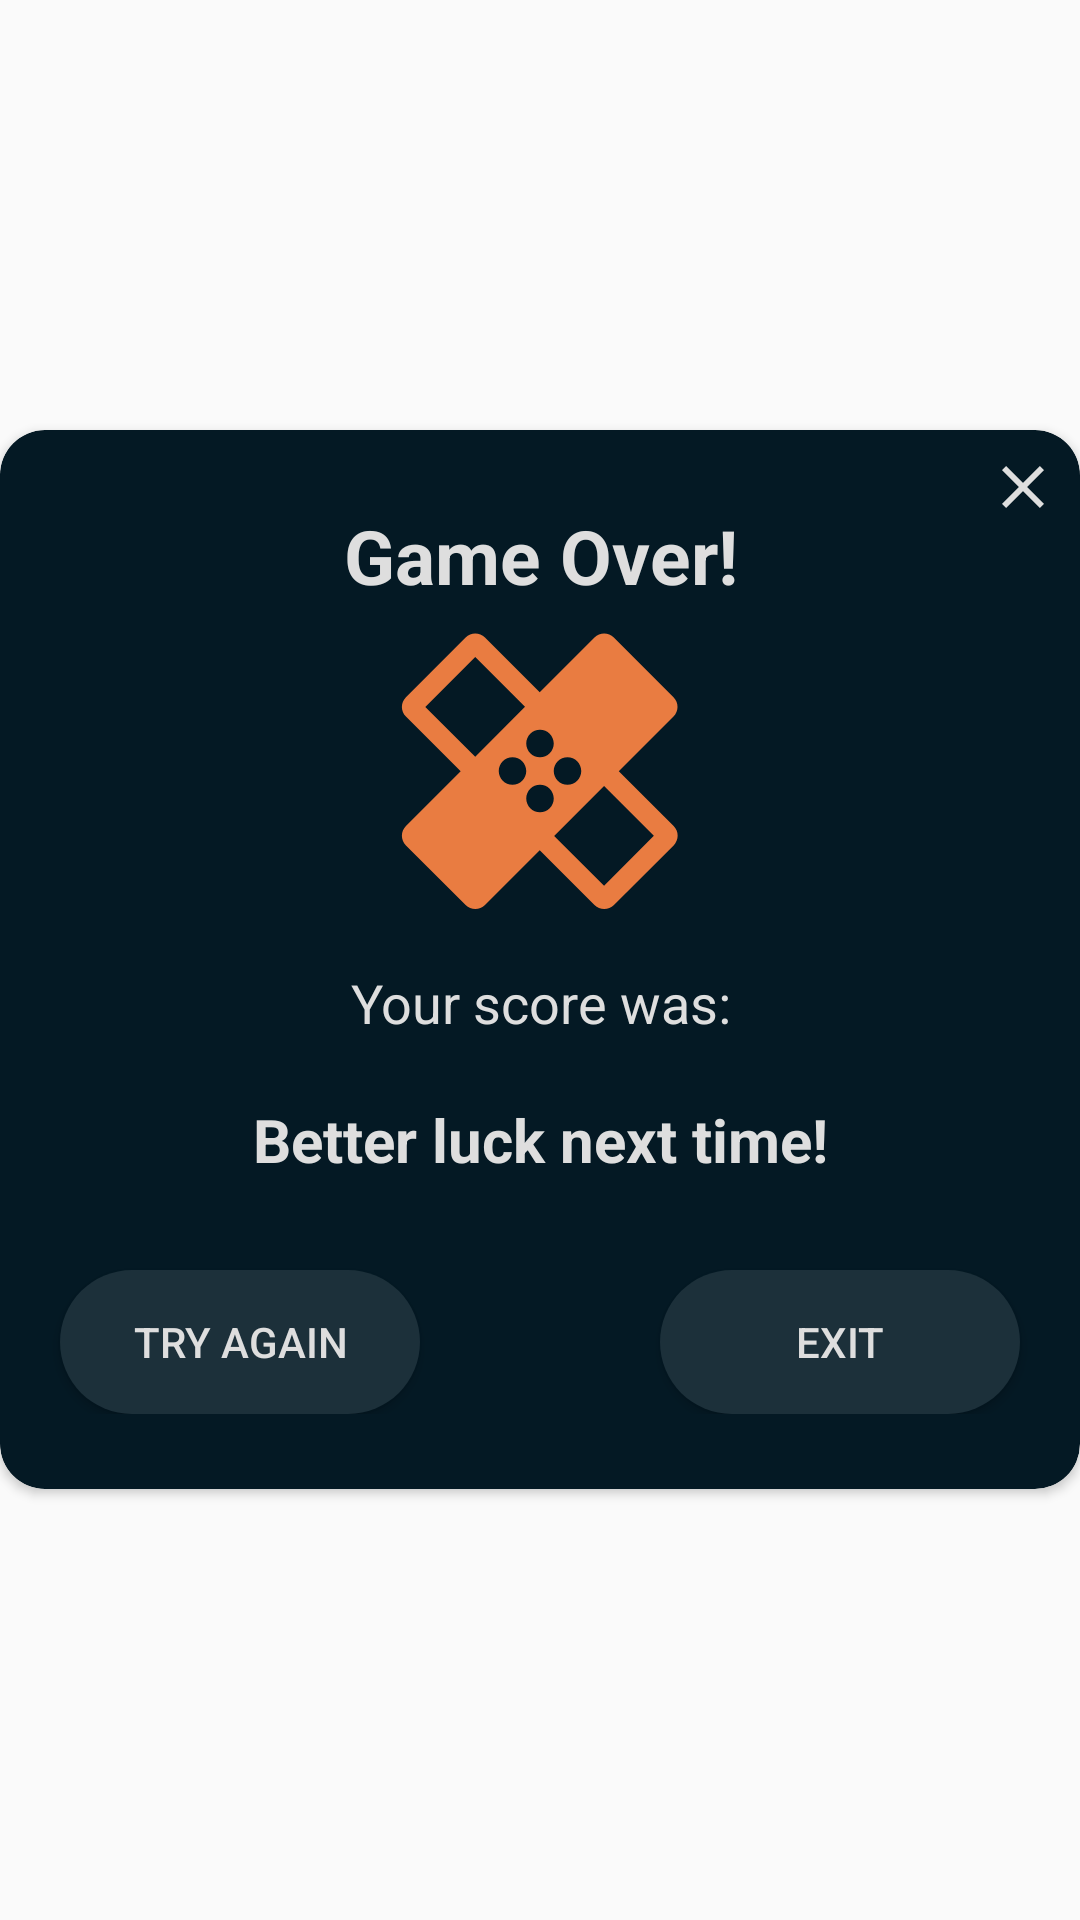

Icon click points for this 1080px x 1920px phone screenshot, format [x,y]:
close: [1023,487]
healing: [540,771]
